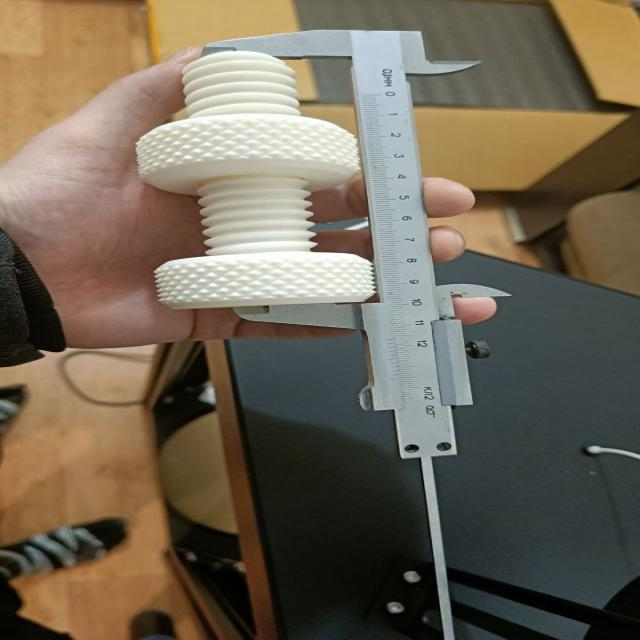Without deffect: (138, 34, 379, 323)
